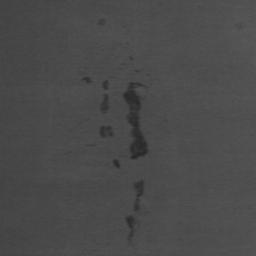Iron scale compression: (123, 83, 148, 160), (133, 181, 144, 212), (100, 94, 109, 115), (126, 216, 134, 239), (100, 125, 114, 138), (101, 80, 109, 91), (112, 159, 120, 170), (81, 77, 93, 84)
